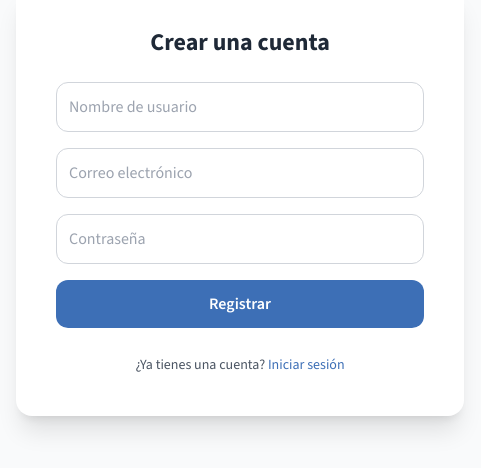
Test: Register page › shows backend error when register fails
The image size is (481, 468).
Click the button "Registrar" at coordinates (240, 304), box [56,280,424,328]
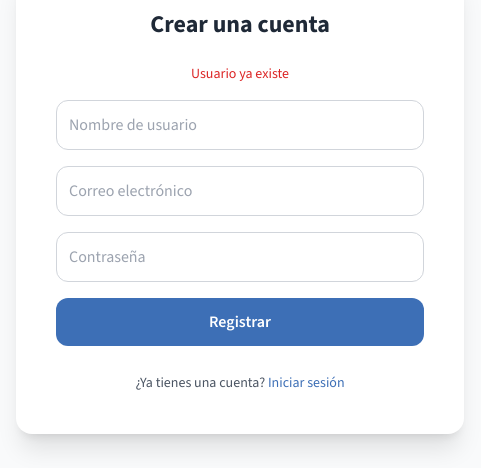
Expected: the text "Usuario ya existe" is shown, [191,64,289,83]
